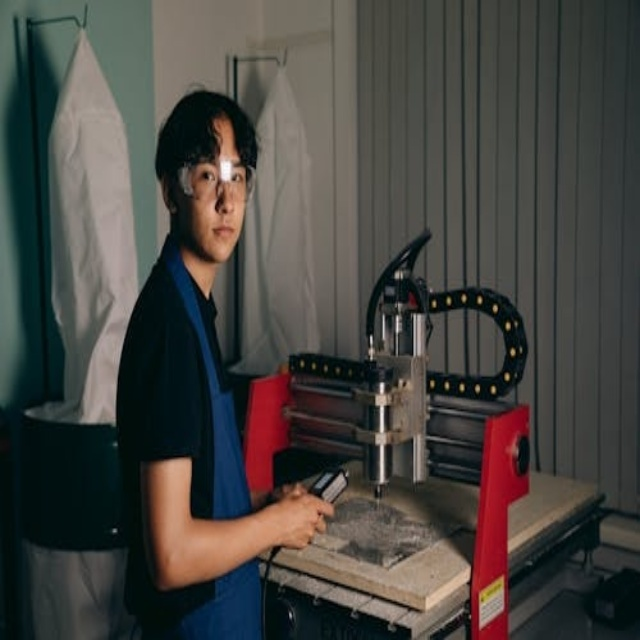Gafas: (177, 160, 257, 205)
Sin_guantes: (269, 482, 335, 552)
Sin_mascara: (204, 213, 234, 254)
